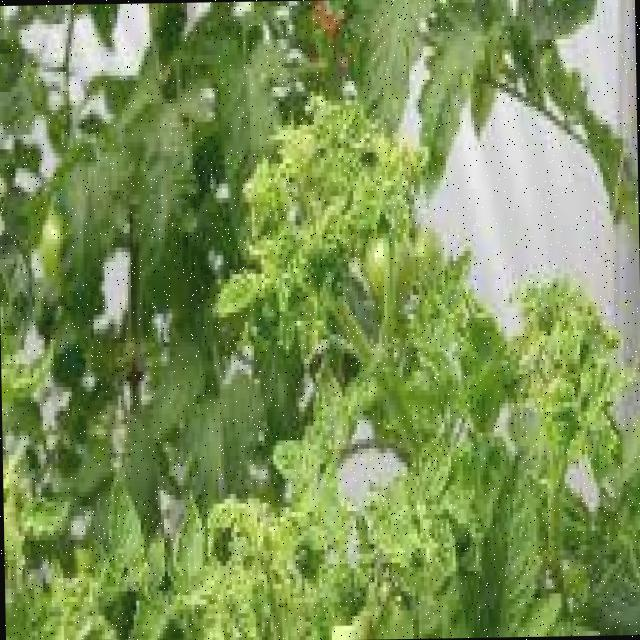leaf curl: (185, 106, 632, 640)
